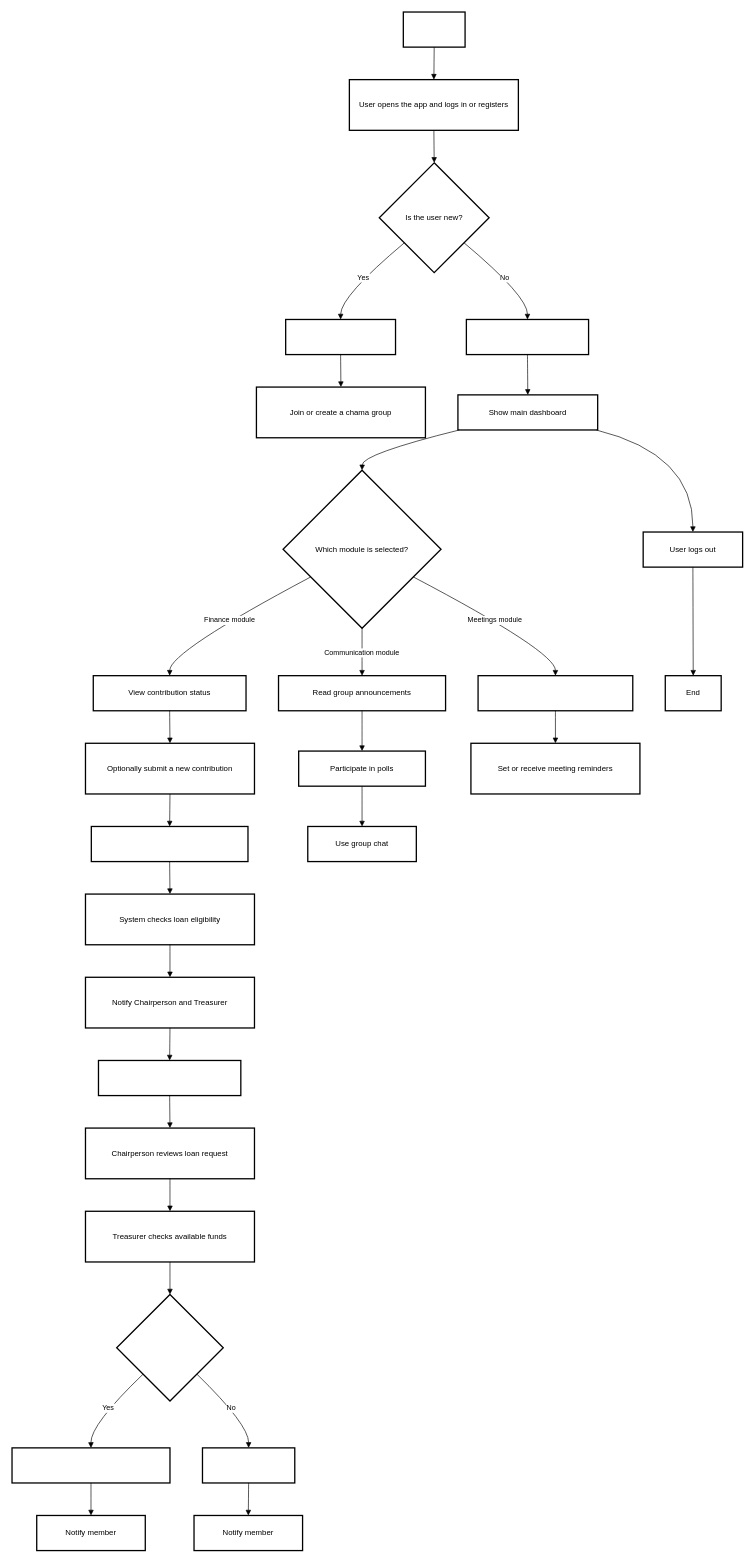
Image size: 754x1562. Some labels were removed from this diagram. Here are the shapes that lost their labels. From the top down, the box of each, then its label:
(402, 11, 465, 47): Start
(285, 318, 396, 355): Create account
(465, 318, 589, 355): Authenticate user
(477, 675, 633, 711): View upcoming meetings
(90, 826, 248, 862): Optionally request a loan
(98, 1060, 241, 1096): Loan approval process
(116, 1294, 224, 1401): Both approved?
(11, 1447, 170, 1483): Disburse funds via M-Pesa
(202, 1447, 295, 1483): Reject loan
